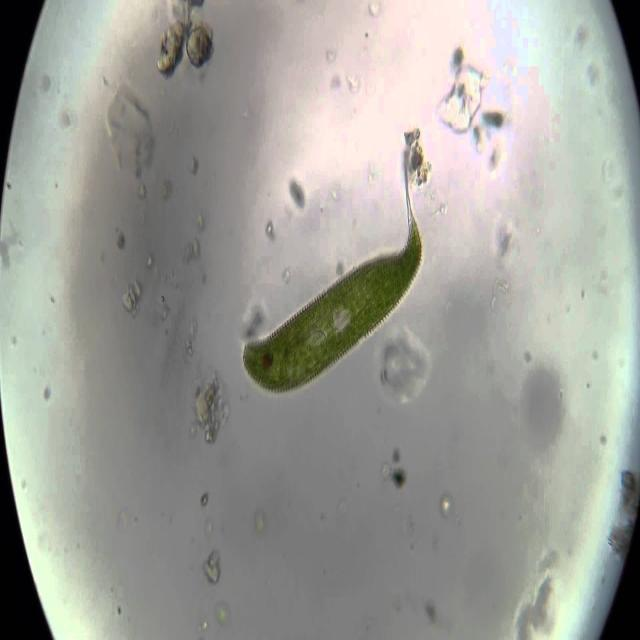Hydra: (3, 0, 639, 637)
Rod_bacteria: (241, 126, 429, 396)
